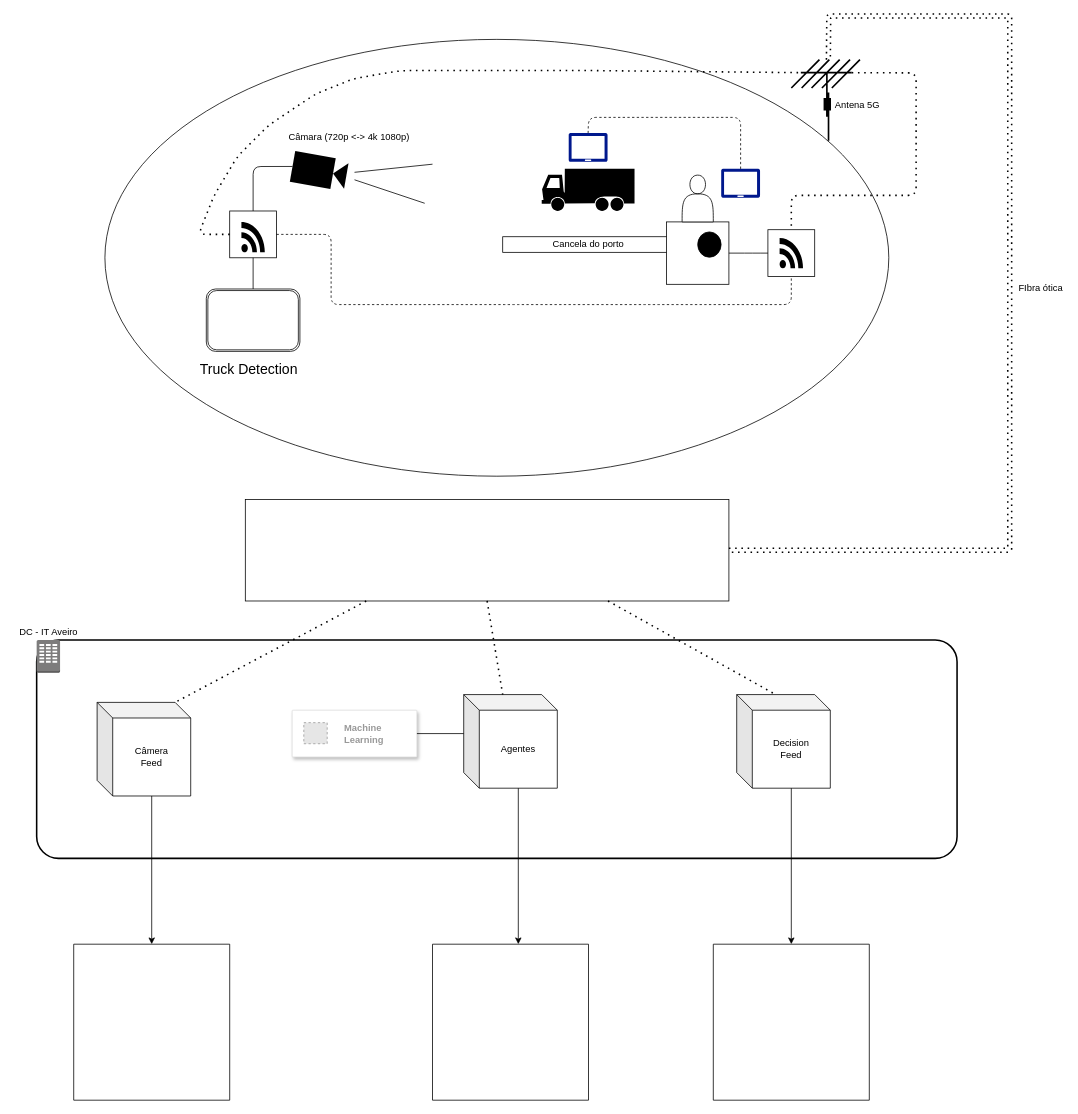
This 1078x1114 diagram has some shape labels left out. Grey dashed boxes stand in for pictures. The centre of each missing label's shape, as x and y in pixels:
"Agente A" goes at point 253,319.
"Middleware (Broker MQTT)" goes at point 487,550.
